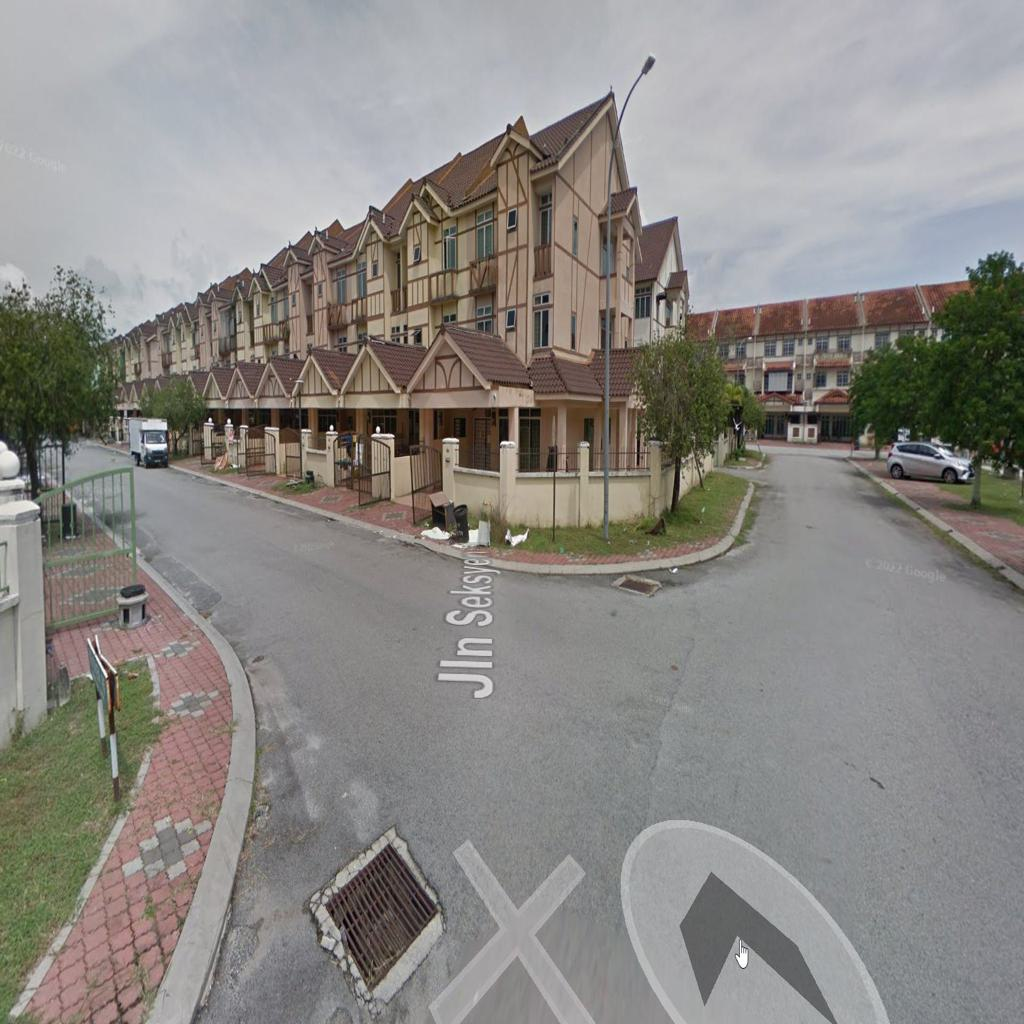Junction: (111, 516, 774, 973)
